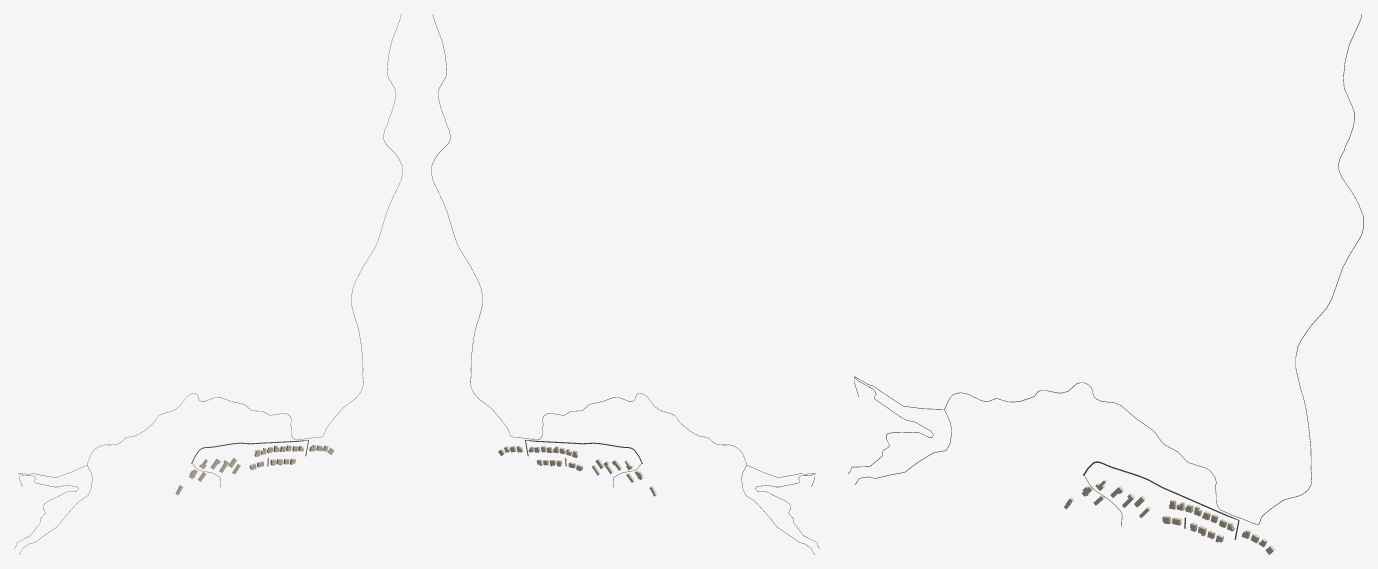
The model's file is historic-palestine-05_21_3470_3150.glb.
3 renders of one model, left to right at view 1: azimuth 30°, elevation 25°; view 2: azimuth 150°, elevation 25°; view 3: azimuth 330°, elevation 25°, orthographic. The views are drawn at different scales.
Parts seen in each view (by area): view 1: Road; view 2: Road; view 3: Road.
Boxes of the visible parts, <box> form: Road: <box>87,14,402,464</box>; Road: <box>431,14,746,464</box>; Road: <box>944,14,1363,524</box>.
Size of the model in its own units: 1236 by 1362 by 8.7.
